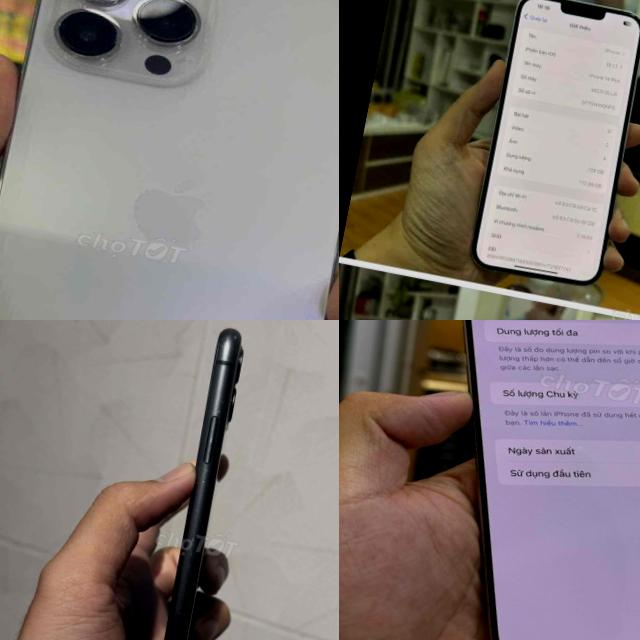scratch: (165, 458, 220, 627), (205, 328, 248, 420)
